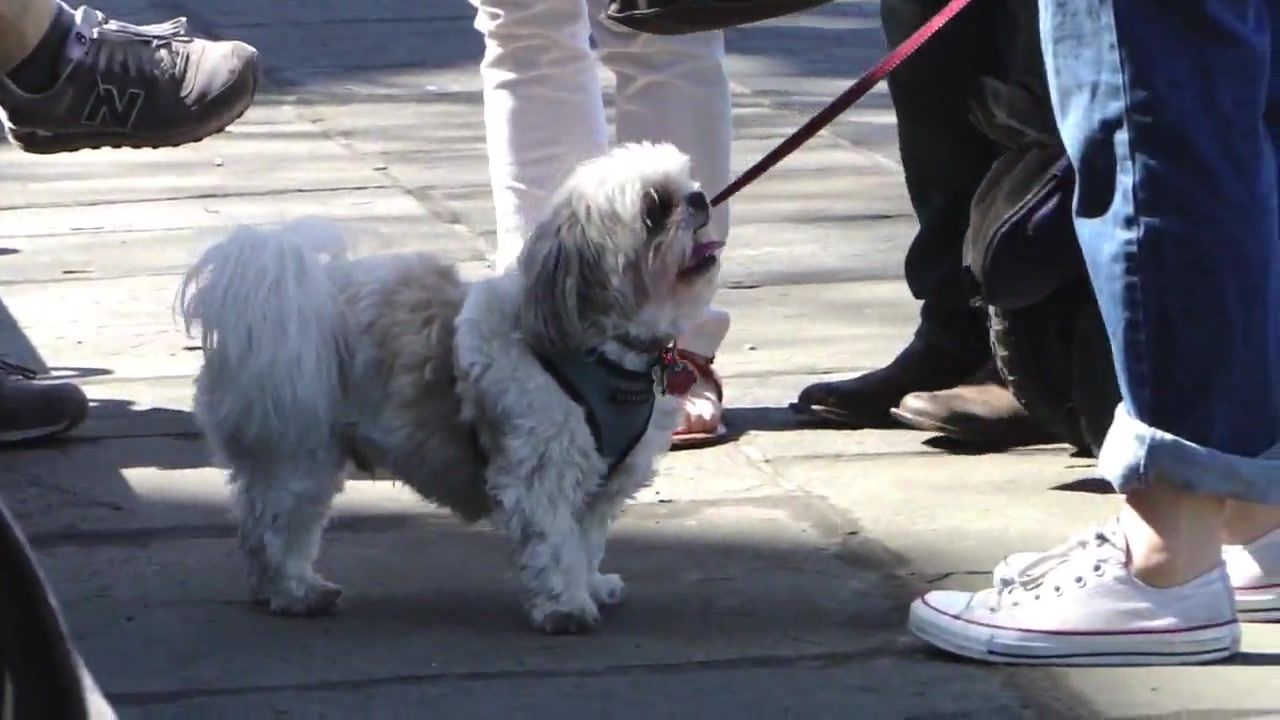dog: (172, 140, 728, 640)
